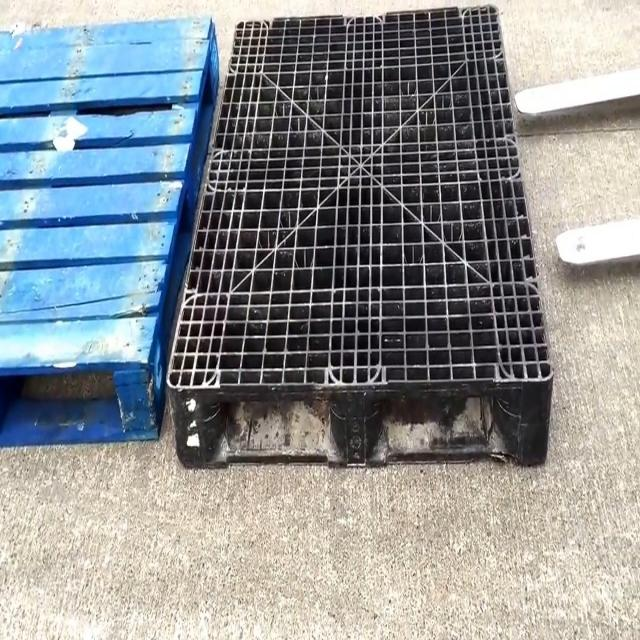Palette: (164, 7, 554, 483), (0, 6, 228, 443)
